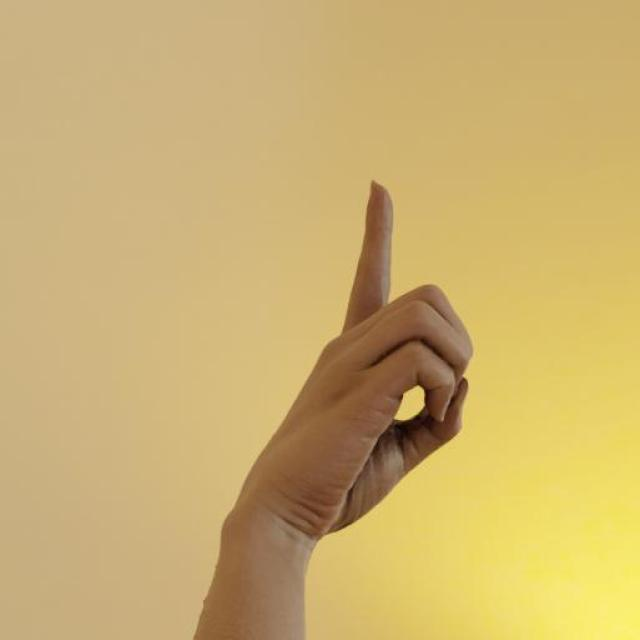D: (237, 171, 477, 540)
